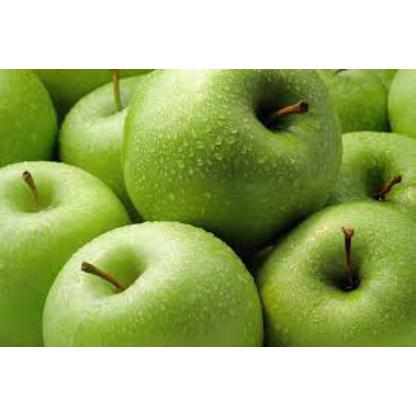apple: (128, 69, 336, 239), (254, 204, 412, 344), (58, 226, 242, 344), (9, 161, 127, 297), (55, 76, 174, 190), (324, 113, 414, 215)
